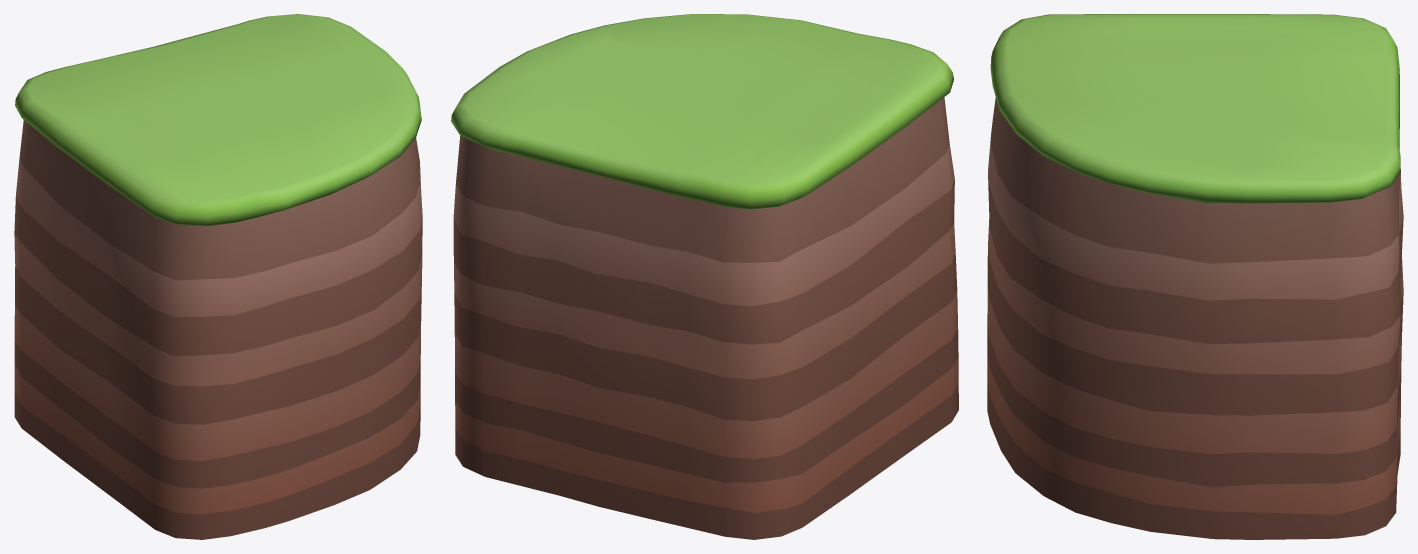
Rendered from land_010.fbx.
The picture shows the model from 3 angles, left to right: view 1: azimuth 30°, elevation 25°; view 2: azimuth 150°, elevation 25°; view 3: azimuth 270°, elevation 25°; orthographic projection. The views are drawn at different scales.
Visible parts, largest first — view 1: land_010; view 2: land_010; view 3: land_010.
Boxes of the visible parts, x1,y1,x2,y2 form: land_010: (14,14,422,539); land_010: (451,14,958,539); land_010: (987,14,1403,539).
Bounding box in the file's own units: 1273 × 1262 × 1197.
